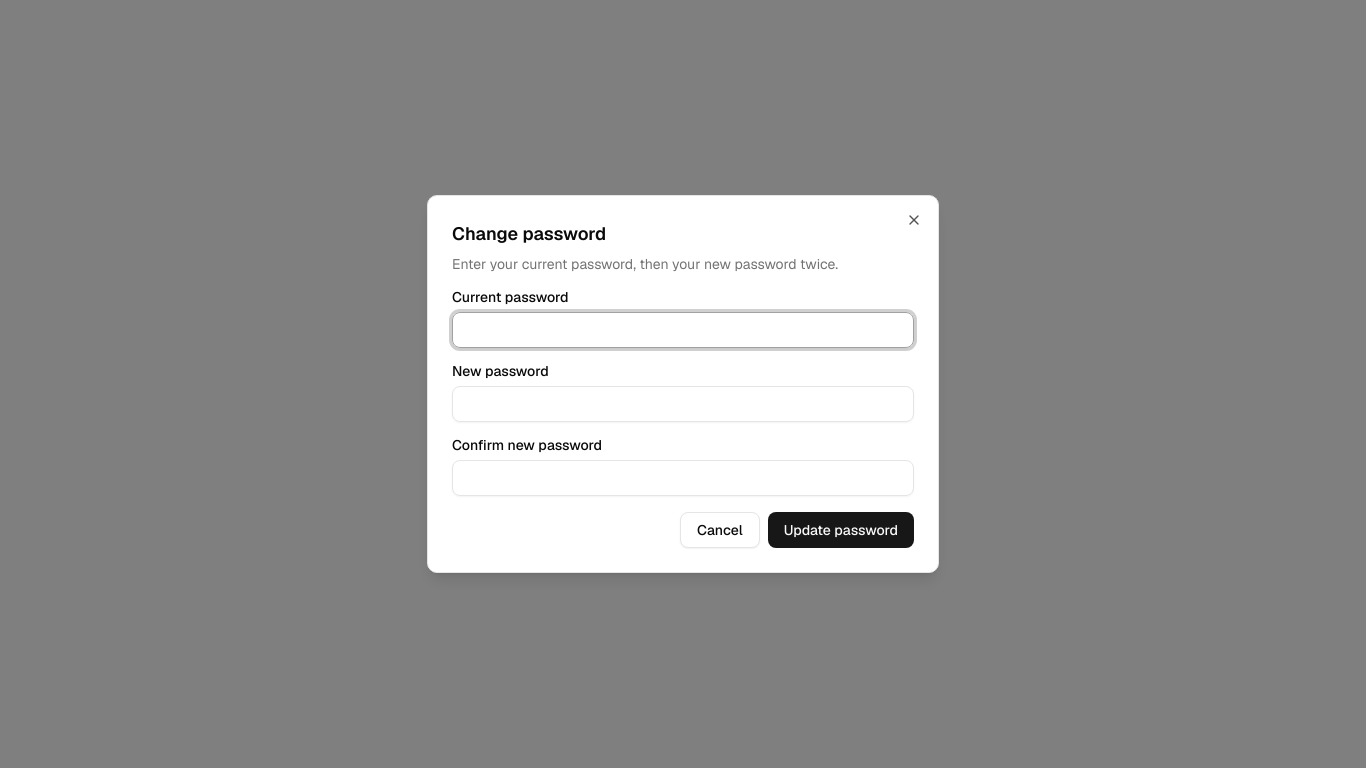
Test: ChangePasswordDialog › blocks submit and warns when the new passwords do not match
Type "oldpass" into the password field labelled "Current password" at (683, 330), box [452,312,914,348]
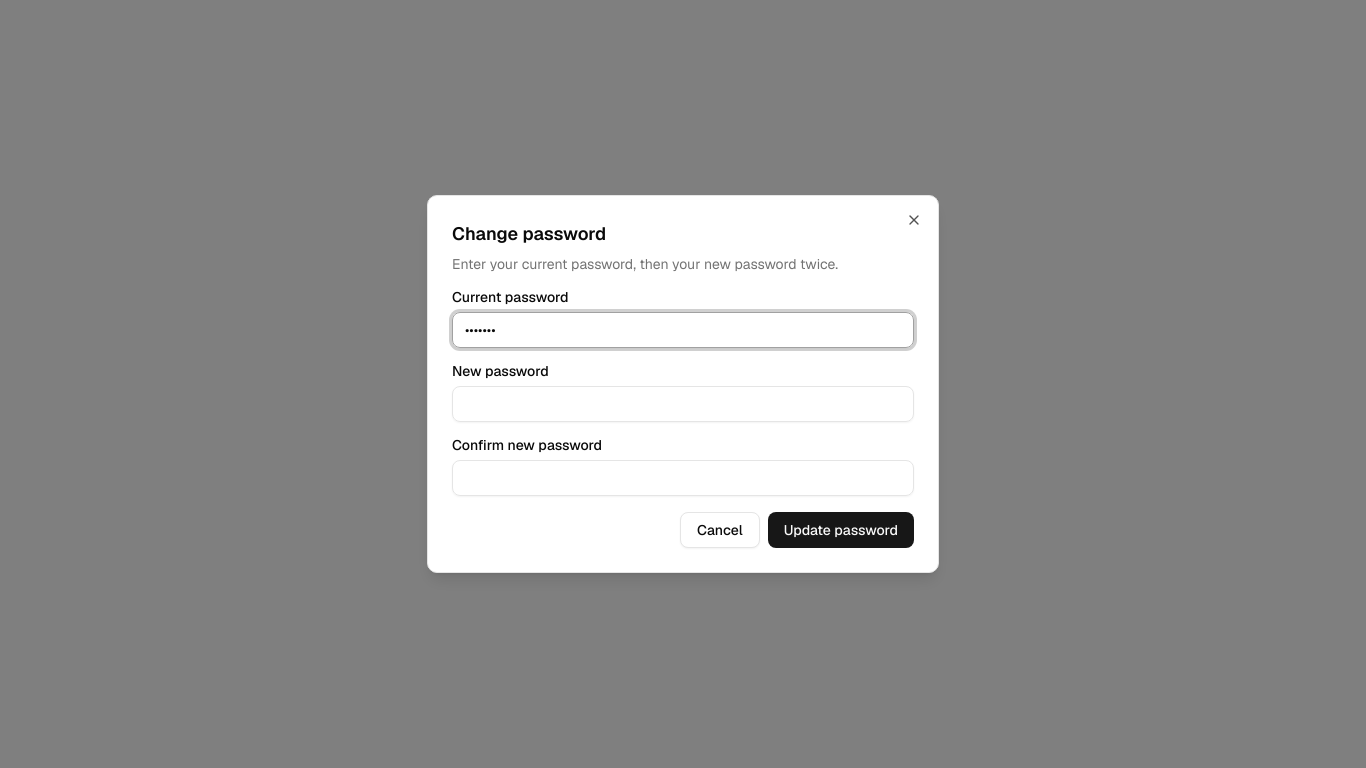
Type "brandnew1" into the password field labelled "New password" at (683, 404), box [452,386,914,422]
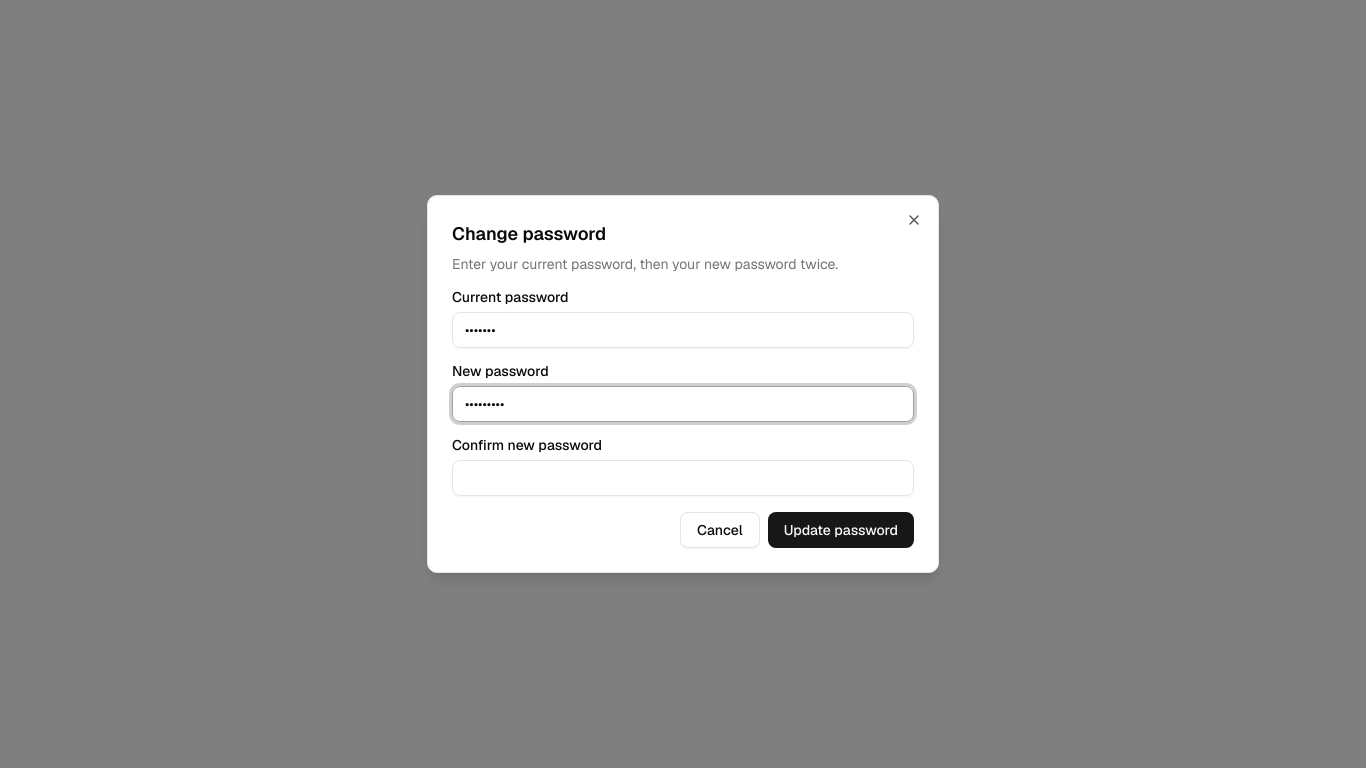
Type "different1" into the password field labelled "Confirm new password" at (683, 478), box [452,460,914,496]
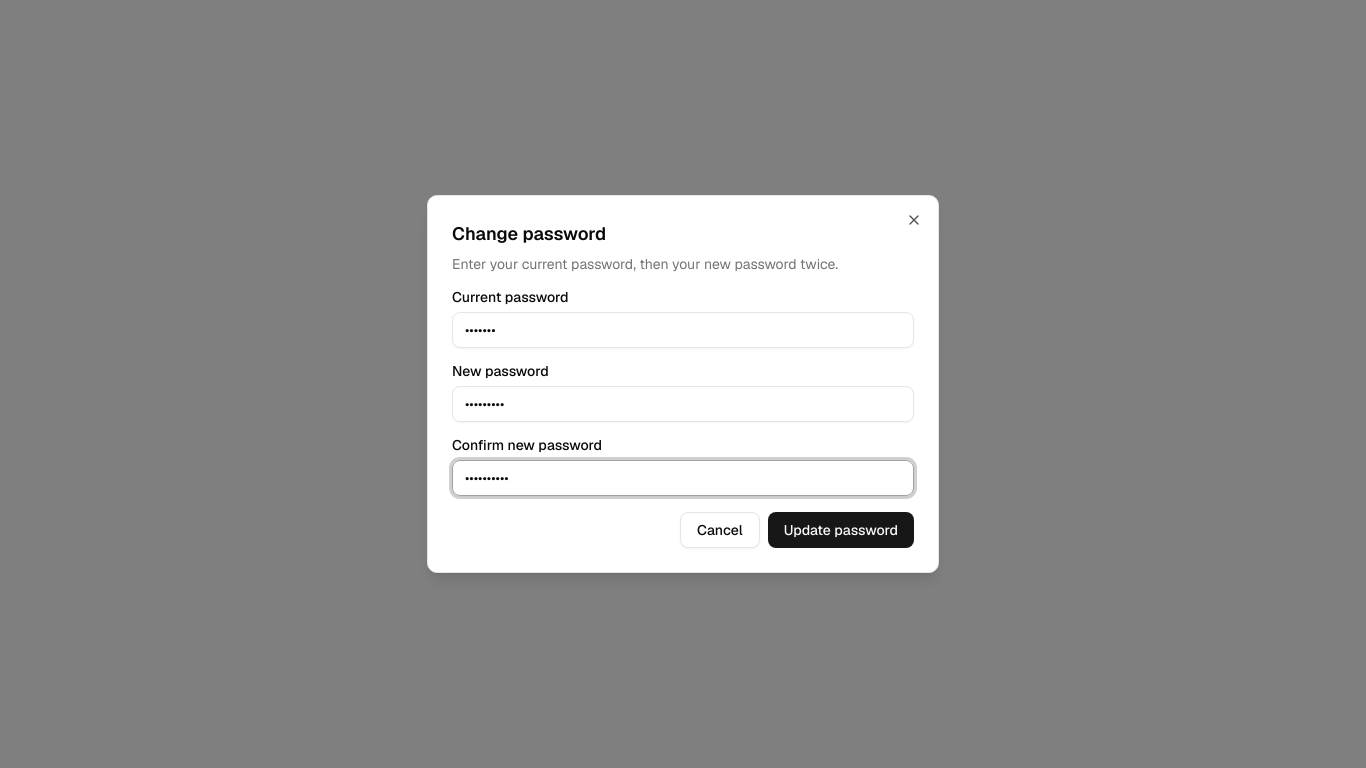
Click the button "Update password" at (841, 530), box [768,512,914,548]
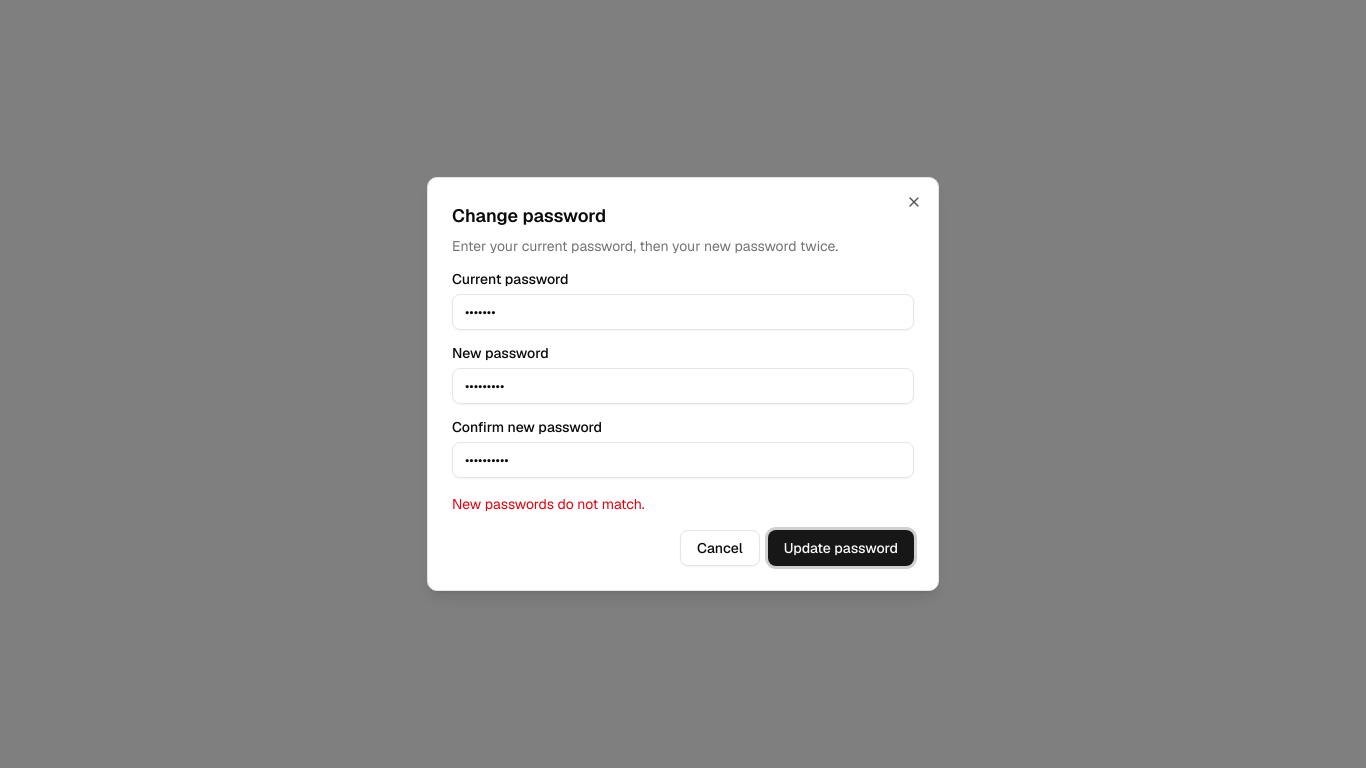
Now the text "New passwords do not match." is shown, box [452,495,645,513]
